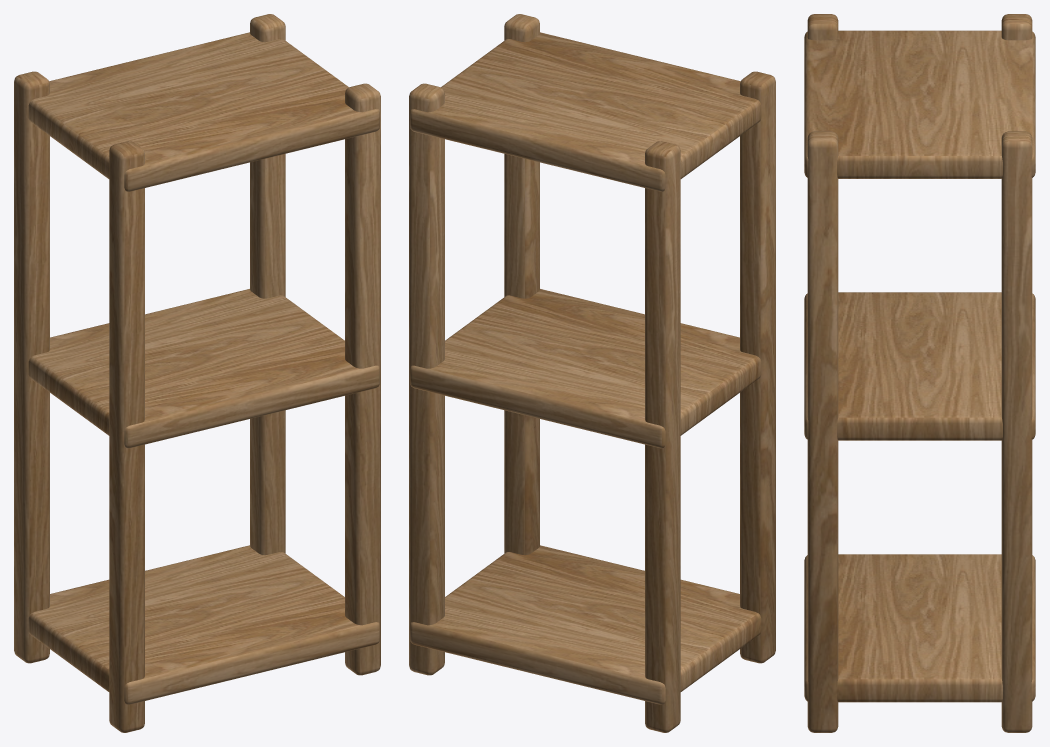
File: bathroom-trolley.glb
3 views of the same model, side by side, from view 1: azimuth 30°, elevation 25°; view 2: azimuth 150°, elevation 25°; view 3: azimuth 270°, elevation 25° (orthographic). The views are drawn at different scales.
Parts seen in each view (by area): view 1: catalog_surface_RealismUV; view 2: catalog_surface_RealismUV; view 3: catalog_surface_RealismUV.
Boxes of the visible parts, x1,y1,x2,y2 form: catalog_surface_RealismUV: (14, 14, 380, 732); catalog_surface_RealismUV: (409, 14, 775, 732); catalog_surface_RealismUV: (804, 14, 1035, 732).
Bounding box in the file's own units: 0.4 × 0.85 × 0.3.
Materials: 1 (1 with a texture image).
